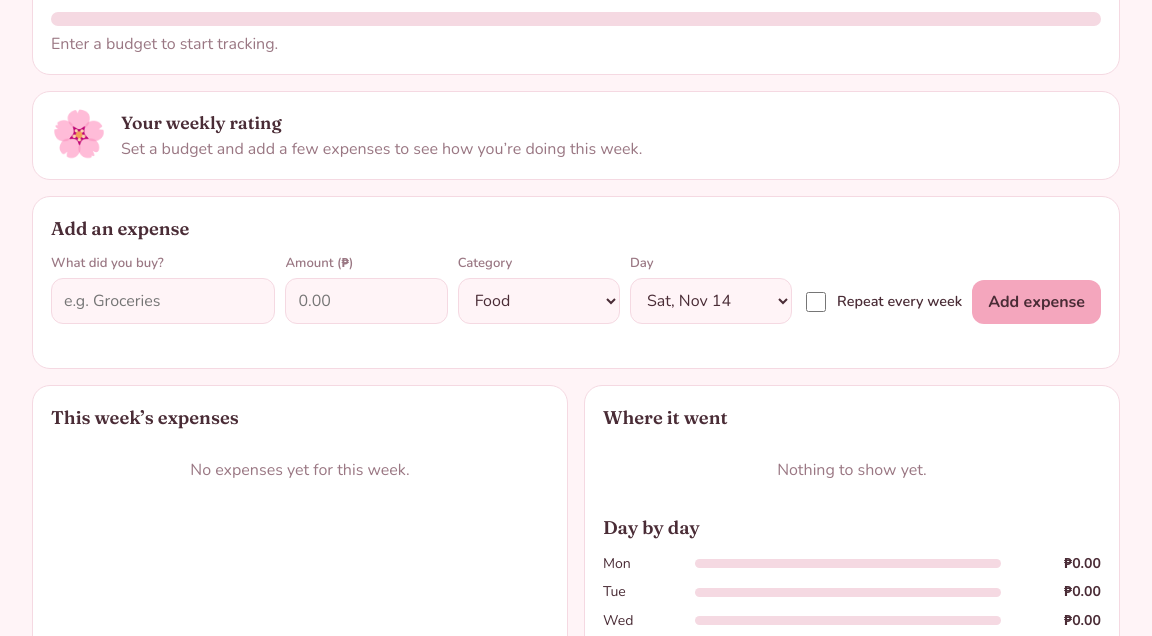
Scenario: App › repeats an expense every week from now on
(page scrolled)
Type "Netflix" into the field labelled "What did you buy?". click: (163, 301)
box: [51,278,275,324]
Type "549" into the number field with id "amt". click: (366, 301)
box: [285,278,448,324]
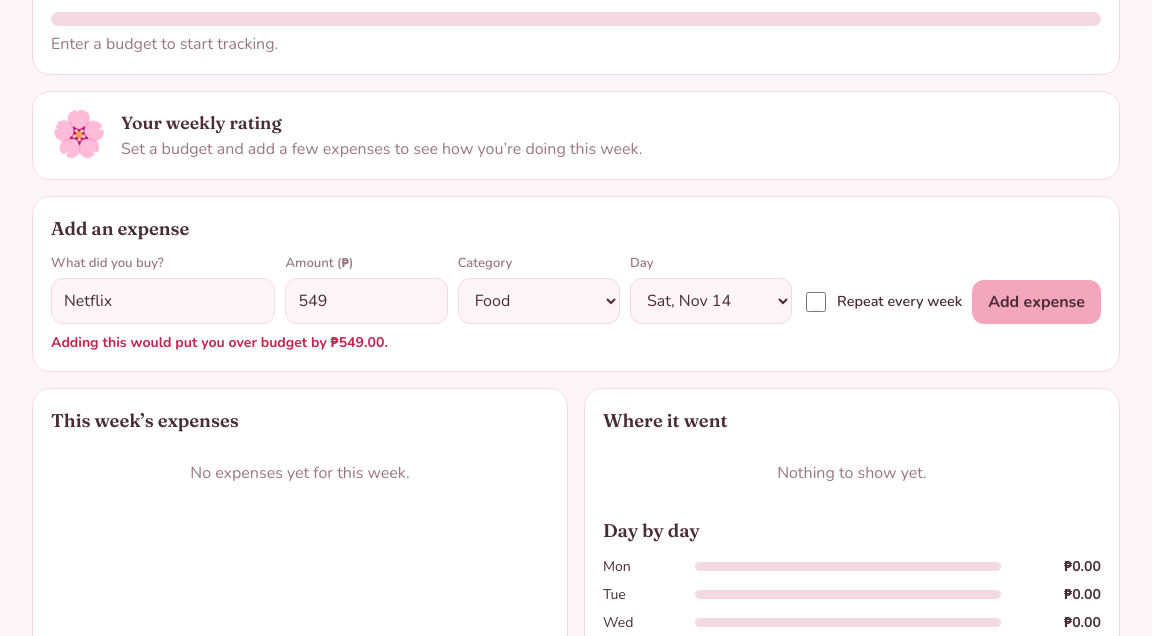
Click the checkbox labelled "Repeat every week". click: (816, 302)
box: [806,292,826,312]
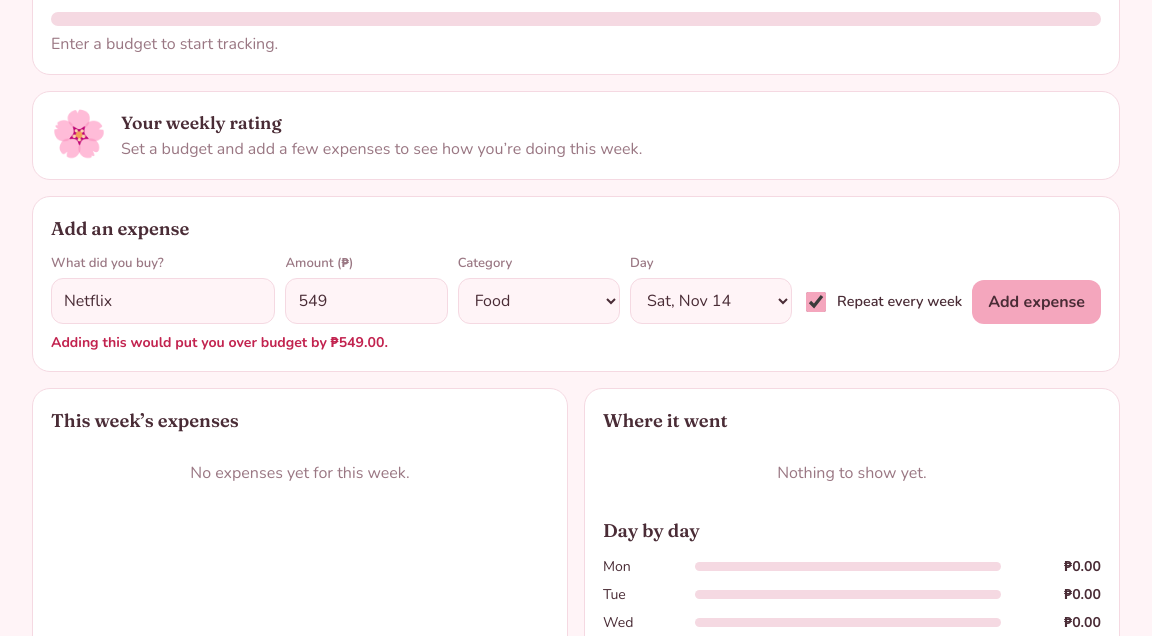
Click the button "Add expense". click: (1037, 302)
box: [972,280,1101,324]
(page scrolled)
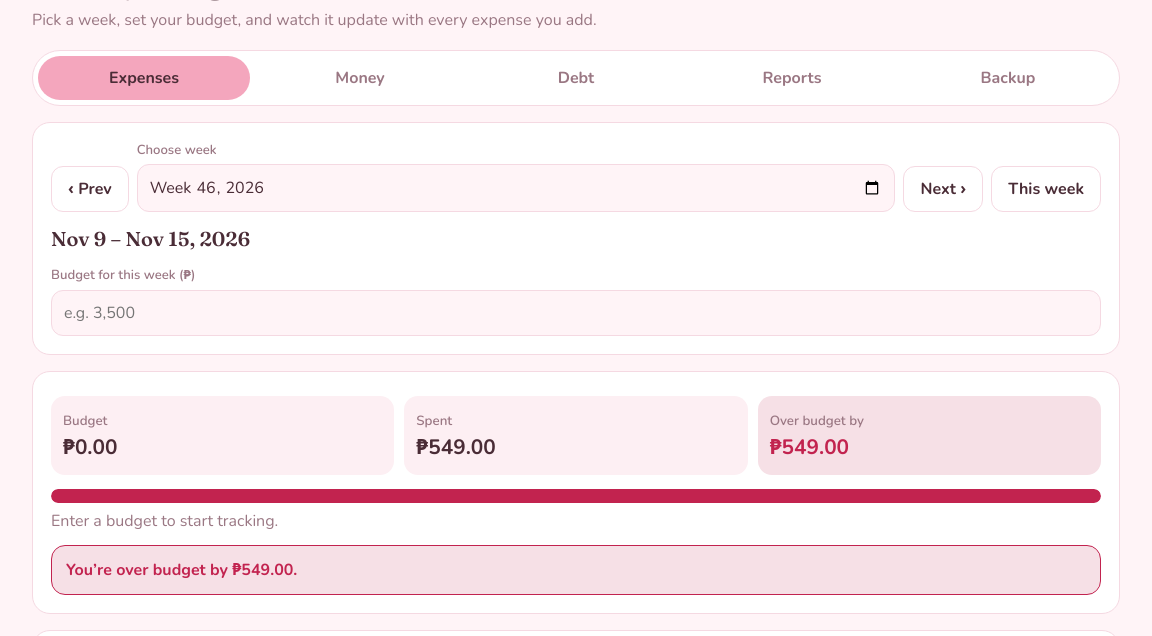
Click the button with aria-label "Next week". click: (943, 189)
box: [904,166,983,212]
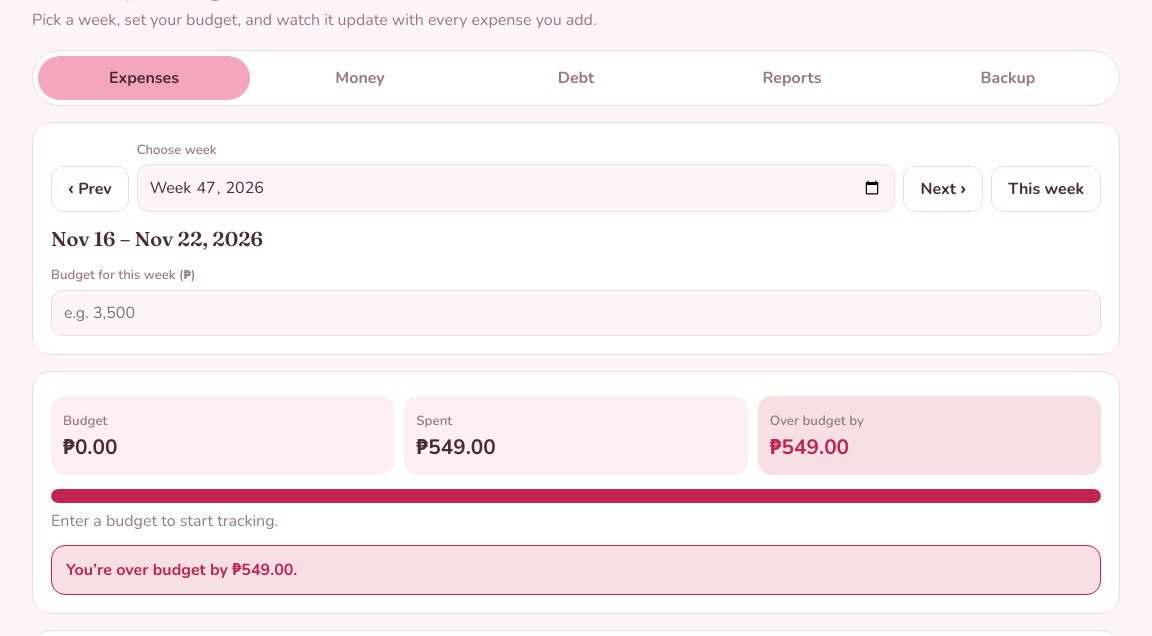
Click the button with aria-label "Previous week". click: (90, 189)
box: [51,166,129,212]
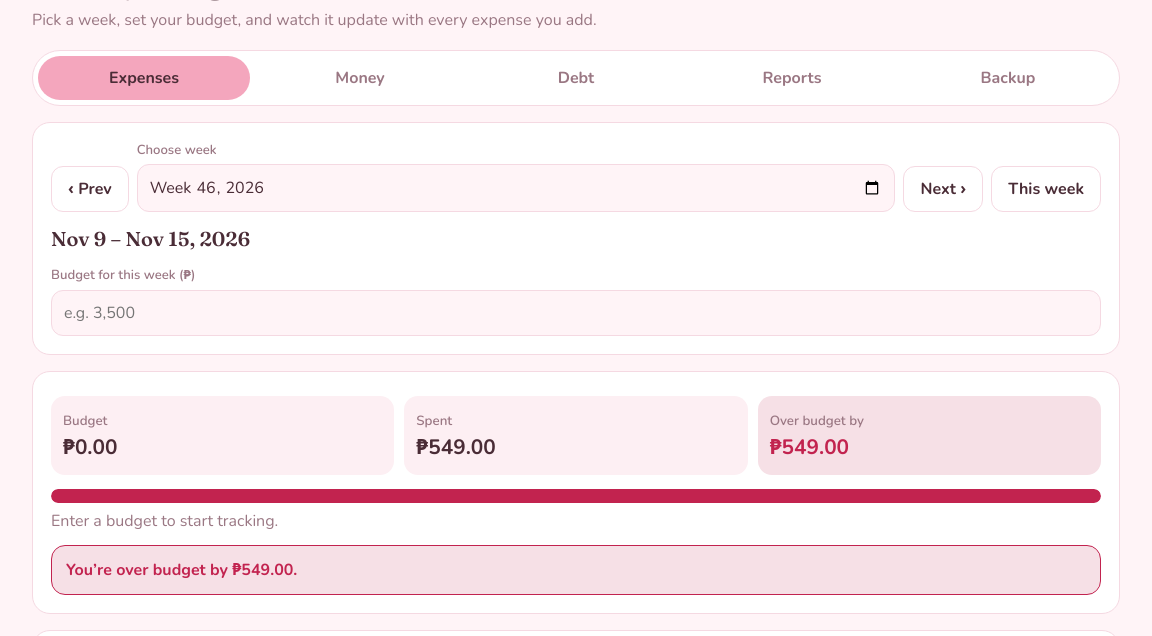
Click the button with aria-label "Previous week". click: (90, 189)
box: [51,166,129,212]
(page scrolled)
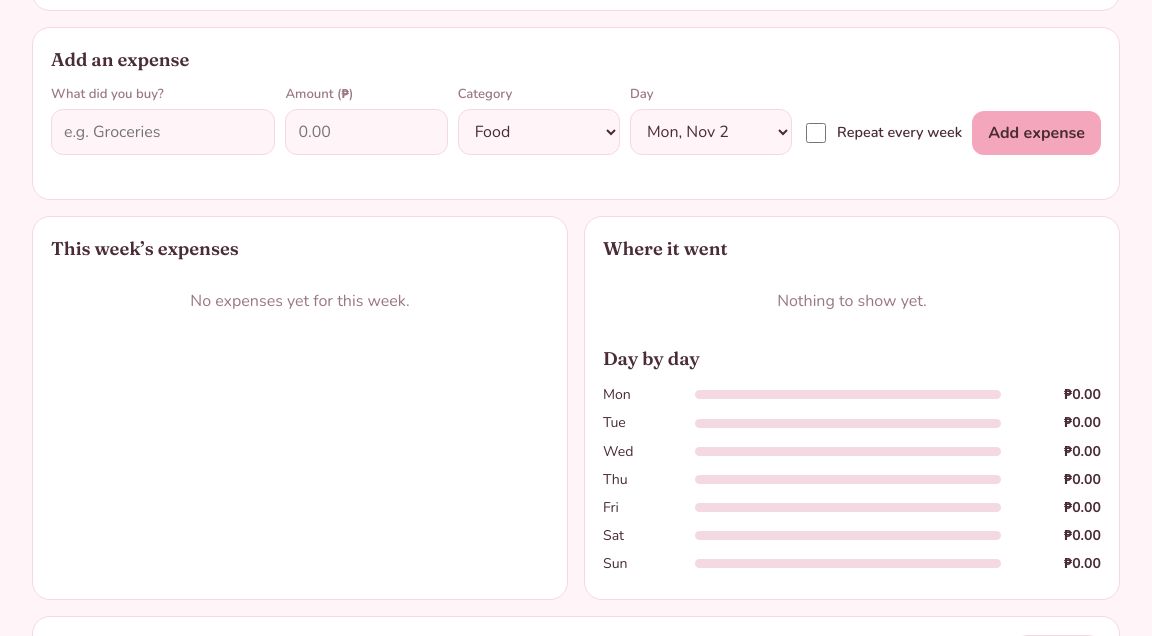
Expected: the list item "No expenses yet for this week." is shown, [190,290,410,312]
